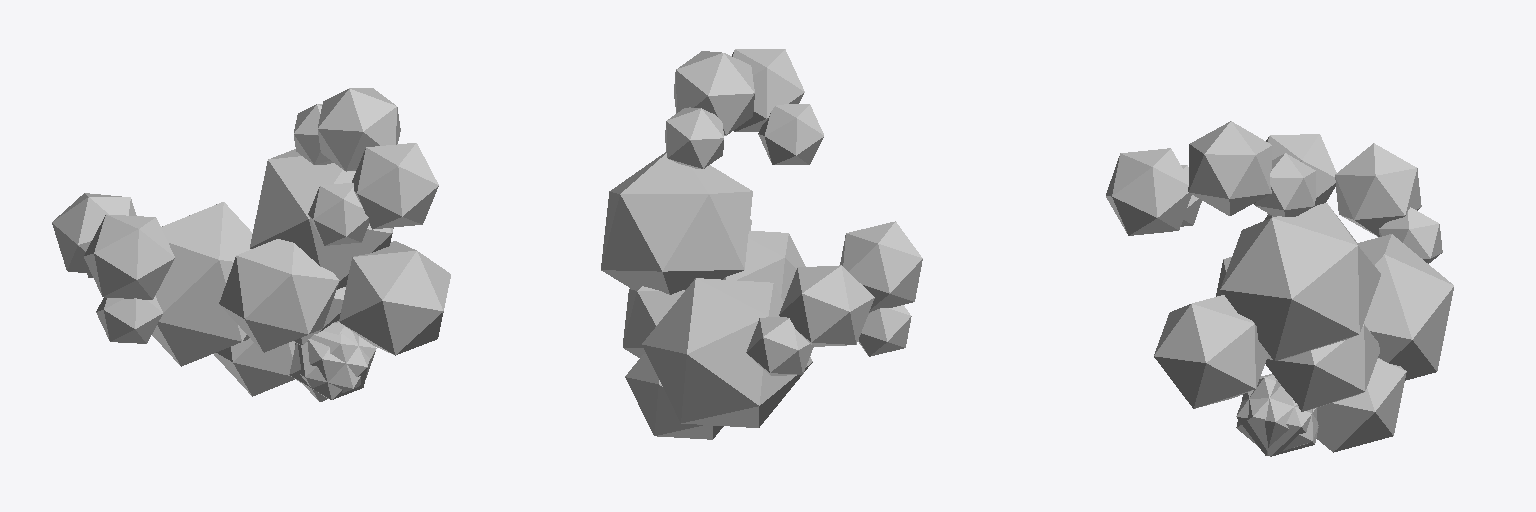
File: memory4.obj
3 views of the same model, side by side, from view 1: azimuth 30°, elevation 25°; view 2: azimuth 150°, elevation 25°; view 3: azimuth 270°, elevation 25° (orthographic).
Parts seen in each view (by area): view 1: Memory4_Icosphere.014; view 2: Memory4_Icosphere.014; view 3: Memory4_Icosphere.014.
Part boxes in pixels (x1,y1,x2,y2): Memory4_Icosphere.014: (52, 88, 450, 401); Memory4_Icosphere.014: (601, 49, 922, 439); Memory4_Icosphere.014: (1106, 121, 1453, 456).
Bounding box in the file's own units: 1.54 × 1.57 × 1.47.